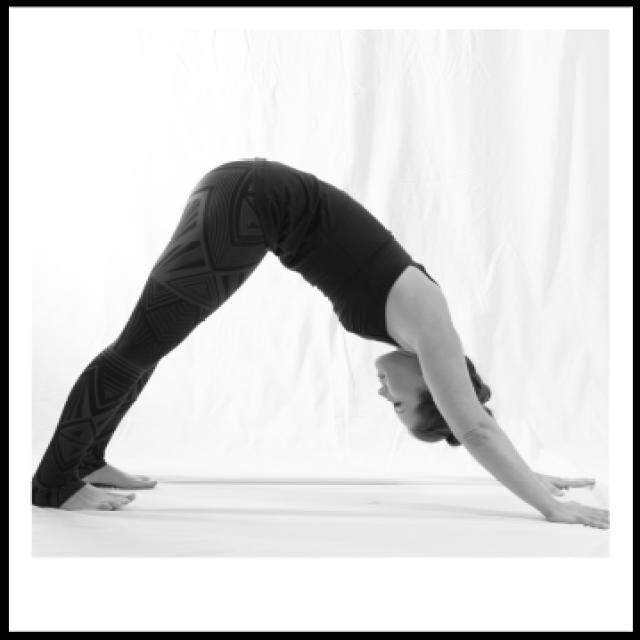Downward-Facing_Dog: (32, 147, 609, 545)
